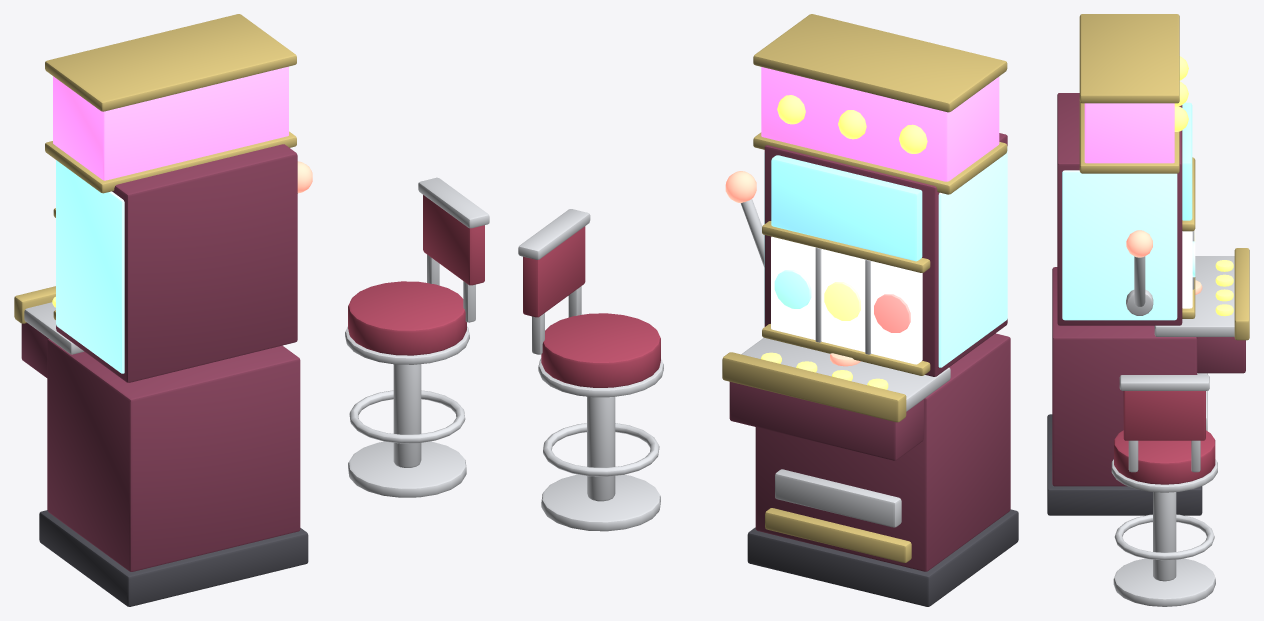
Rendered from th14_spielautomat.glb.
3 views of the same model, side by side, from view 1: azimuth 30°, elevation 25°; view 2: azimuth 150°, elevation 25°; view 3: azimuth 270°, elevation 25° (orthographic). The views are drawn at different scales.
Visible parts, largest first — view 1: Cube.001, Cube.007, Cube.017, Cube.018, Cube.008, Cube, Cylinder.013, Cylinder.010, Cube.021, Cylinder.011, Cube.016, Torus (+5 smaller); view 2: Cube.001, Cube.017, Cube.018, Cube.008, Cube.015, Cube.010, Cube, Cube.004, Cylinder.013, Cube.007, Cube.006, Cylinder.010 (+20 smaller); view 3: Cube.009, Cube.001, Cube.018, Cube.017, Cube.007, Cube, Cube.021, Cylinder.013, Cylinder.010, Cube.005, Cylinder.011, Cube.004 (+14 smaller).
Part boxes in pixels (bbox=[...]): Cube.001: bbox=[47, 339, 300, 571]; Cube.007: bbox=[56, 144, 297, 382]; Cube.017: bbox=[53, 66, 288, 180]; Cube.018: bbox=[45, 14, 296, 111]; Cube.008: bbox=[56, 160, 124, 373]; Cube: bbox=[39, 510, 308, 606]; Cylinder.013: bbox=[348, 281, 466, 355]; Cylinder.010: bbox=[348, 441, 466, 497]; Cube.021: bbox=[423, 195, 484, 285]; Cylinder.011: bbox=[393, 364, 421, 467]; Cube.016: bbox=[45, 131, 296, 193]; Torus: bbox=[349, 390, 465, 443]; Cube.001: bbox=[755, 333, 1010, 571]; Cube.017: bbox=[761, 67, 999, 181]; Cube.018: bbox=[753, 14, 1007, 112]; Cube.008: bbox=[938, 146, 1007, 367]; Cube.015: bbox=[771, 155, 922, 261]; Cube.010: bbox=[771, 236, 922, 364]; Cube: bbox=[747, 509, 1018, 606]; Cube.004: bbox=[729, 382, 923, 460]; Cylinder.013: bbox=[541, 313, 660, 387]; Cube.007: bbox=[764, 133, 1007, 376]; Cube.006: bbox=[722, 352, 906, 422]; Cylinder.010: bbox=[541, 474, 660, 531]; Cube.009: bbox=[1062, 170, 1177, 320]; Cube.001: bbox=[1052, 267, 1197, 486]; Cube.018: bbox=[1079, 14, 1179, 103]; Cube.017: bbox=[1084, 103, 1174, 163]; Cube.007: bbox=[1057, 93, 1182, 325]; Cube: bbox=[1047, 414, 1202, 515]; Cube.021: bbox=[1123, 391, 1205, 440]; Cylinder.013: bbox=[1114, 430, 1215, 484]; Cylinder.010: bbox=[1113, 558, 1215, 606]; Cube.005: bbox=[1154, 256, 1234, 336]; Cylinder.011: bbox=[1153, 492, 1176, 581]; Cube.004: bbox=[1196, 337, 1245, 373].
Size of the model in its own units: 1.64 by 1.88 by 0.81.
